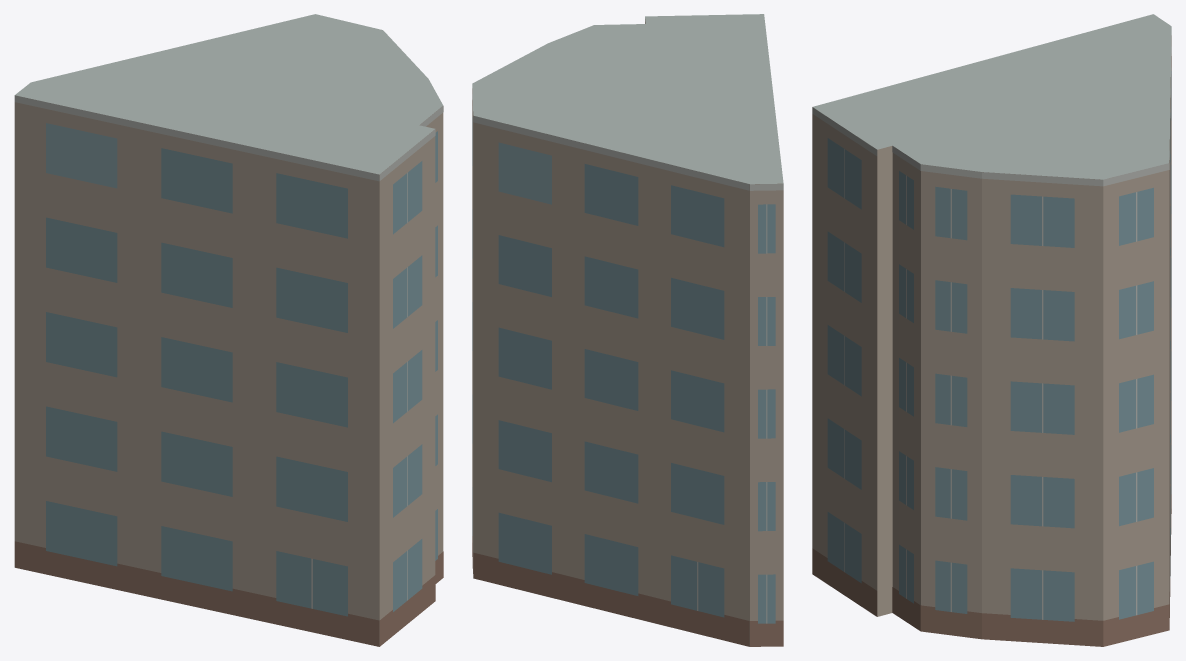
Rendered from survey-upis-33033367.glb.
The picture shows the model from 3 angles, left to right: view 1: azimuth 30°, elevation 25°; view 2: azimuth 150°, elevation 25°; view 3: azimuth 270°, elevation 25°; orthographic projection. The views are drawn at different scales.
Visible parts, largest first — view 1: survey-upis-33033367.tmp; view 2: survey-upis-33033367.tmp; view 3: survey-upis-33033367.tmp.
Boxes of the visible parts, x1,y1,x2,y2 form: survey-upis-33033367.tmp: (14, 14, 443, 646); survey-upis-33033367.tmp: (472, 14, 783, 646); survey-upis-33033367.tmp: (812, 14, 1171, 646).
Size of the model in its own units: 12.86 by 16.9 by 11.79.
